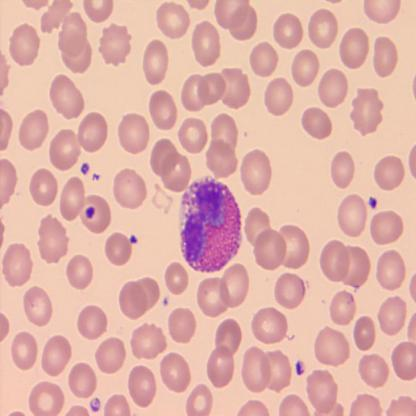Eosinophil: (178, 174, 244, 272)
